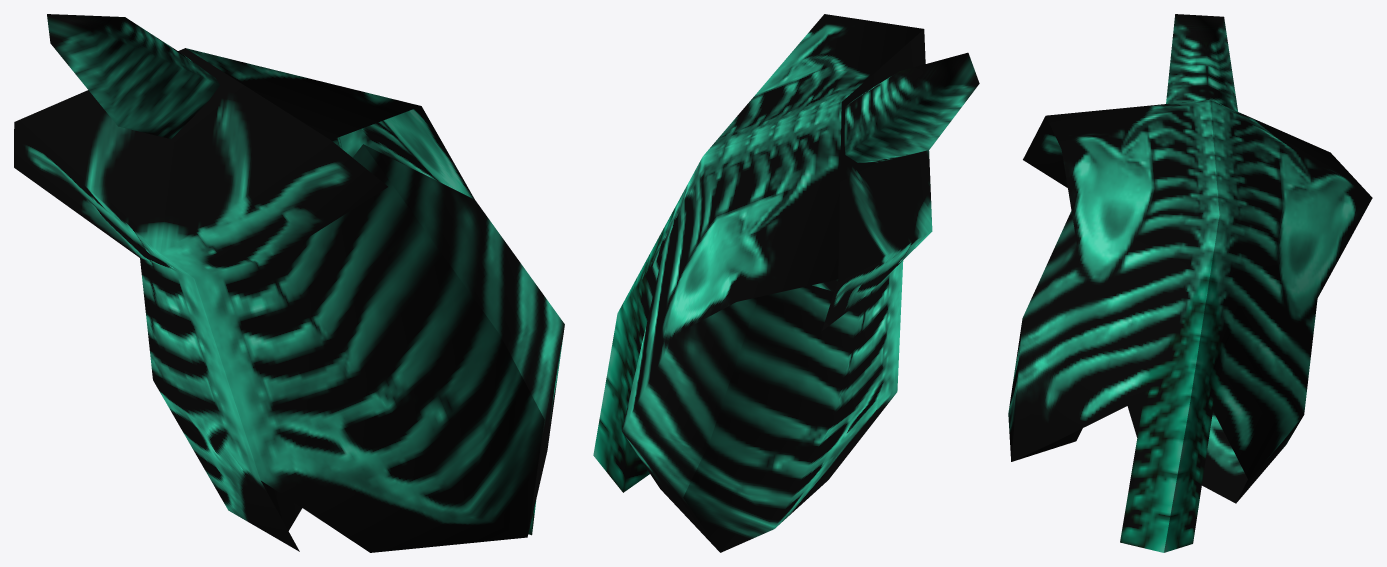
The model's file is VIFS05.obj.
3 views of the same model, side by side, from view 1: azimuth 30°, elevation 25°; view 2: azimuth 150°, elevation 25°; view 3: azimuth 270°, elevation 25° (orthographic). The views are drawn at different scales.
Visible parts, largest first — view 1: VIFS05; view 2: VIFS05; view 3: VIFS05.
Part boxes in pixels (<box>): VIFS05: <box>14,14,564,552</box>; VIFS05: <box>593,14,979,552</box>; VIFS05: <box>1008,14,1372,552</box>.
Size of the model in its own units: 16.86 by 20.75 by 16.72.
